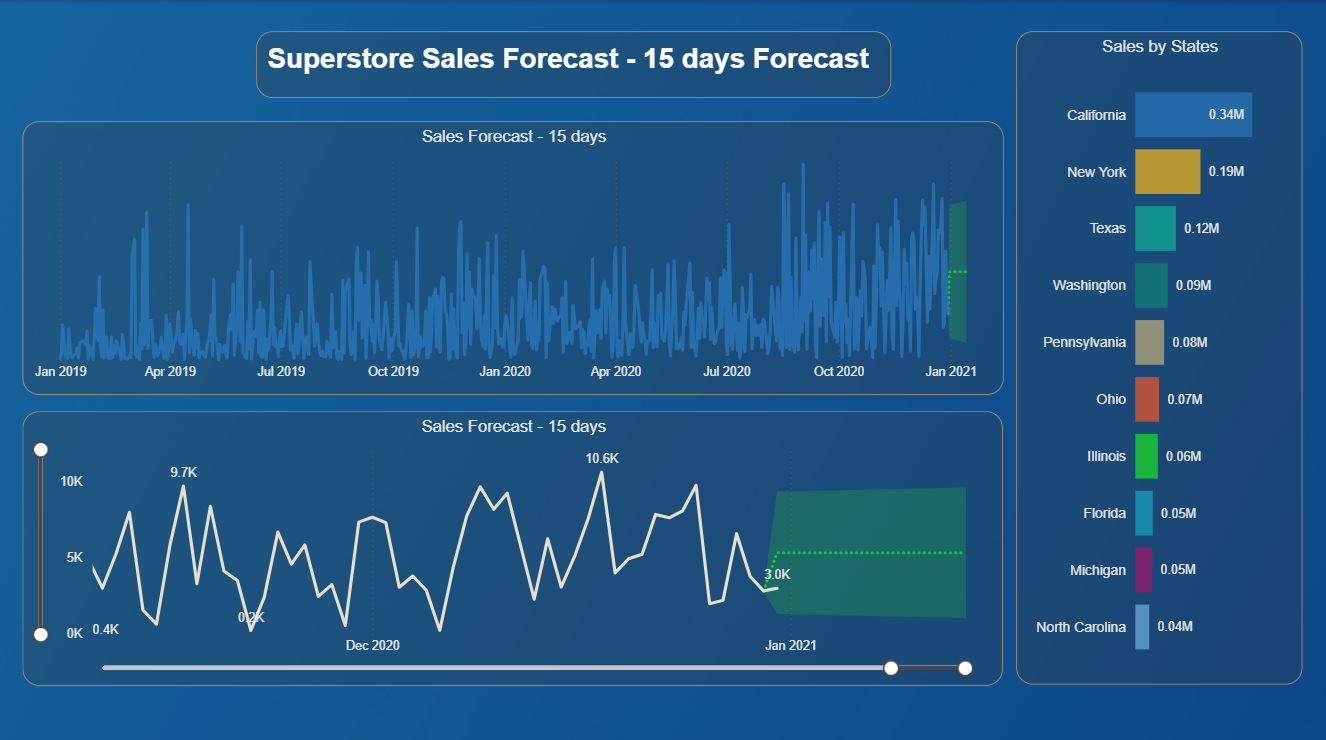

The page's visual inventory and layout, read from the dashboard file:
{"tool":"powerbi","page":{"name":"Forecasting","canvas":[1280,720],"ordinal":1},"visuals":[{"type":"lineChart","title":"Sales Forecast - 15 days","fields":{"Y":["Sum(SuperStore_Sales_Dataset.Sales)"],"Category":["SuperStore_Sales_Dataset.Order Date"]},"box":[26.2,394.1,940.3,263.1],"z":0},{"type":"clusteredBarChart","title":"Sales by States","fields":{"Y":["Sum(SuperStore_Sales_Dataset.Sales)"],"Category":["SuperStore_Sales_Dataset.State"]},"box":[979.2,30.2,274.1,626.1],"z":1000},{"type":"lineChart","title":"Sales Forecast - 15 days","fields":{"Y":["Sum(SuperStore_Sales_Dataset.Sales)"],"Category":["SuperStore_Sales_Dataset.Order Date"]},"box":[26.7,116.2,940.8,262.5],"z":2000},{"type":"textbox","box":[250,30,609,64],"z":3000}]}

Visuals, with their boxes in screenshot pixels (x1, y1, x2, y2), scaled from the page's 1280x720 canvas onto the 1326x740 screenshot:
"Sales Forecast - 15 days" lineChart: <box>27,405,1001,675</box>
"Sales by States" clusteredBarChart: <box>1014,31,1298,675</box>
"Sales Forecast - 15 days" lineChart: <box>28,119,1002,389</box>
textbox: <box>259,31,890,97</box>
